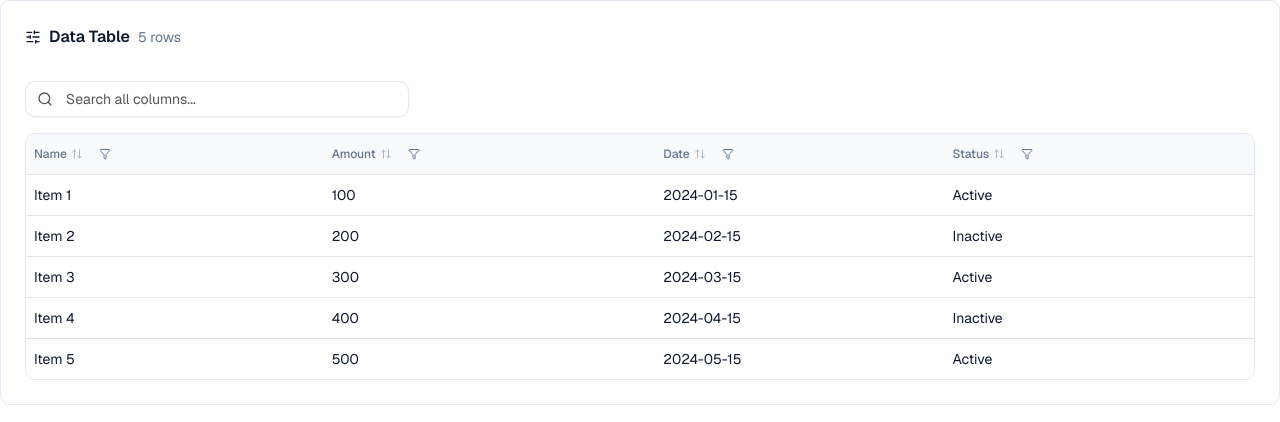
Test: ReportDataTable Component › global search filter (AC-23.6.3) › filters rows based on search input
Type "Item 1" into the search field with test id "global-search-input" at (217, 99), box top-left (25, 81), bottom-right (409, 117)
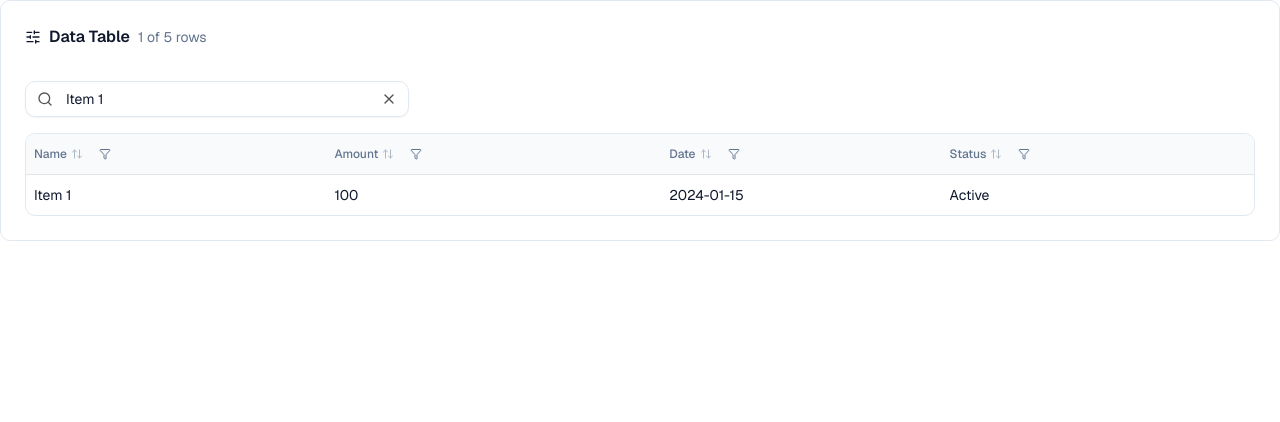
Expected: the number of rows with test id "data-row" is 1, top-left (26, 174), bottom-right (1254, 214)
